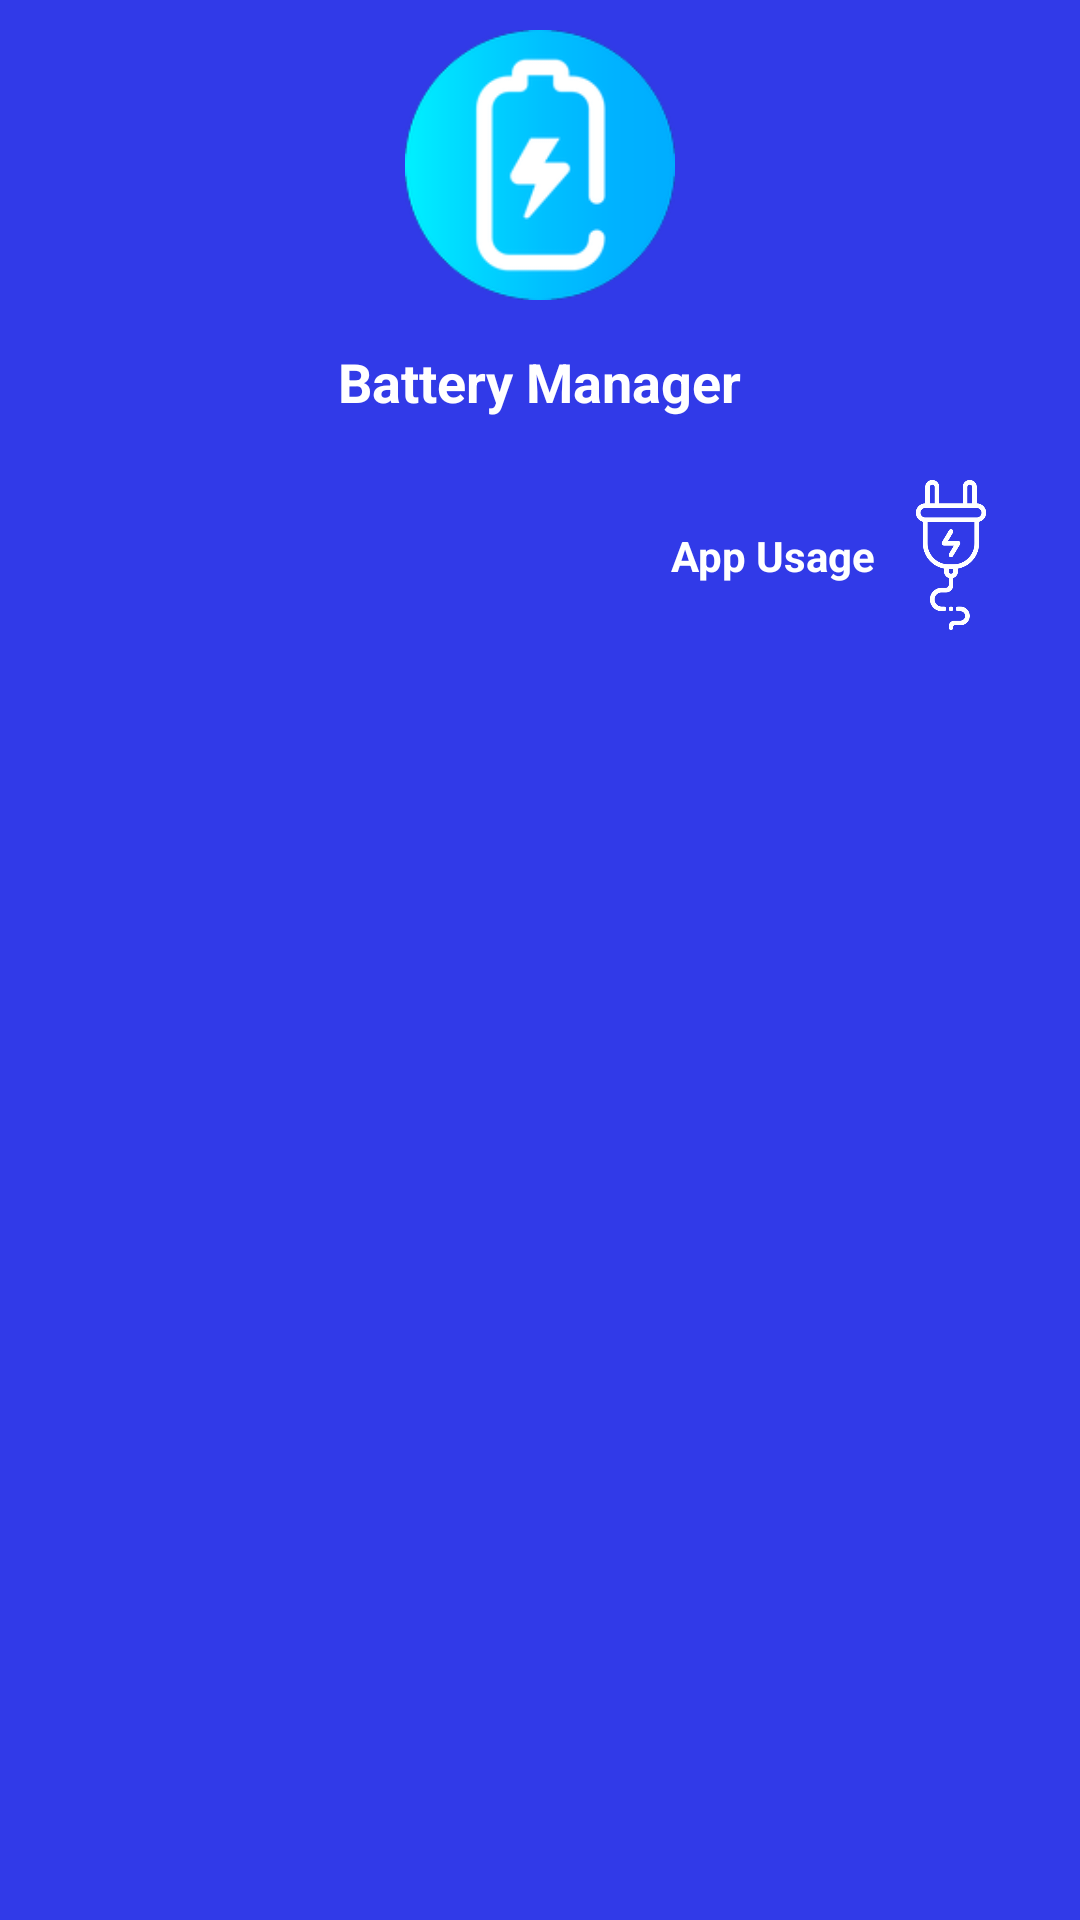

Icon bounding boxes for this 1080px×1920px phone screenshot, format (x1, y1, x2, y2):
electric plug: (916, 480, 986, 630)
